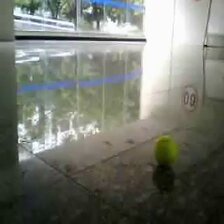tennis: (155, 136, 176, 164)
